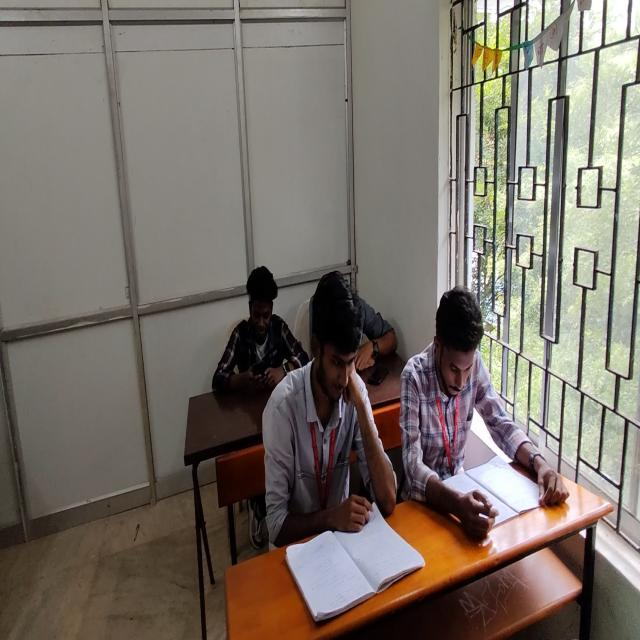reading: (262, 268, 397, 554), (405, 283, 561, 526)
sleeping: (305, 278, 396, 380)
using_mobile: (214, 263, 310, 394)
